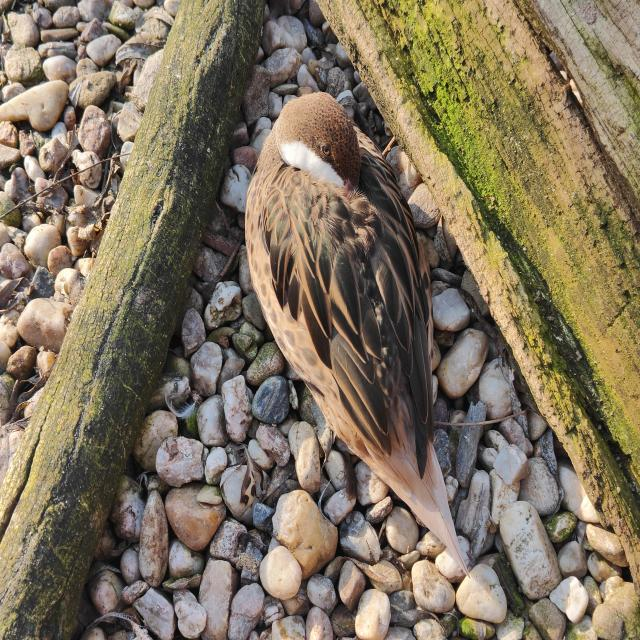bird: (244, 92, 470, 579)
